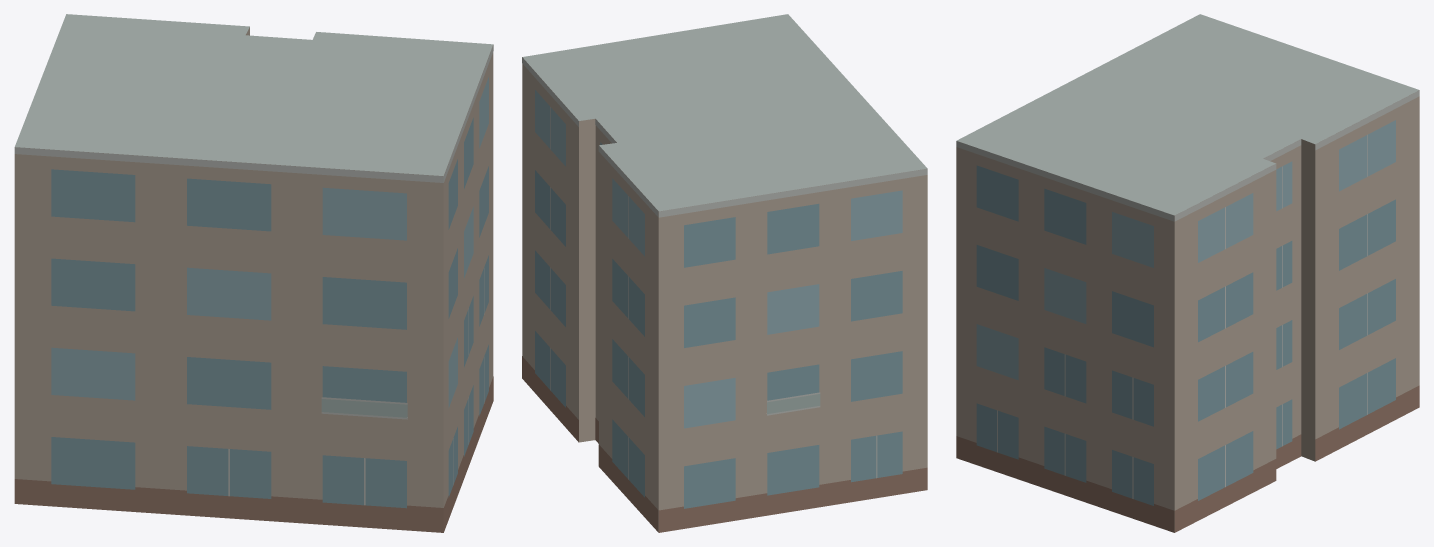
The model's file is survey-upis-32670108.glb.
The picture shows the model from 3 angles, left to right: view 1: azimuth 30°, elevation 25°; view 2: azimuth 150°, elevation 25°; view 3: azimuth 270°, elevation 25°; orthographic projection. The views are drawn at different scales.
Parts seen in each view (by area): view 1: survey-upis-32670108.tmp; view 2: survey-upis-32670108.tmp; view 3: survey-upis-32670108.tmp.
Boxes of the visible parts, box(x1,y1,x2,y2) form: survey-upis-32670108.tmp: box(14, 14, 493, 532); survey-upis-32670108.tmp: box(522, 14, 927, 532); survey-upis-32670108.tmp: box(956, 14, 1419, 532).
Bounding box in the file's own units: 17.11 × 12.55 × 16.62.
